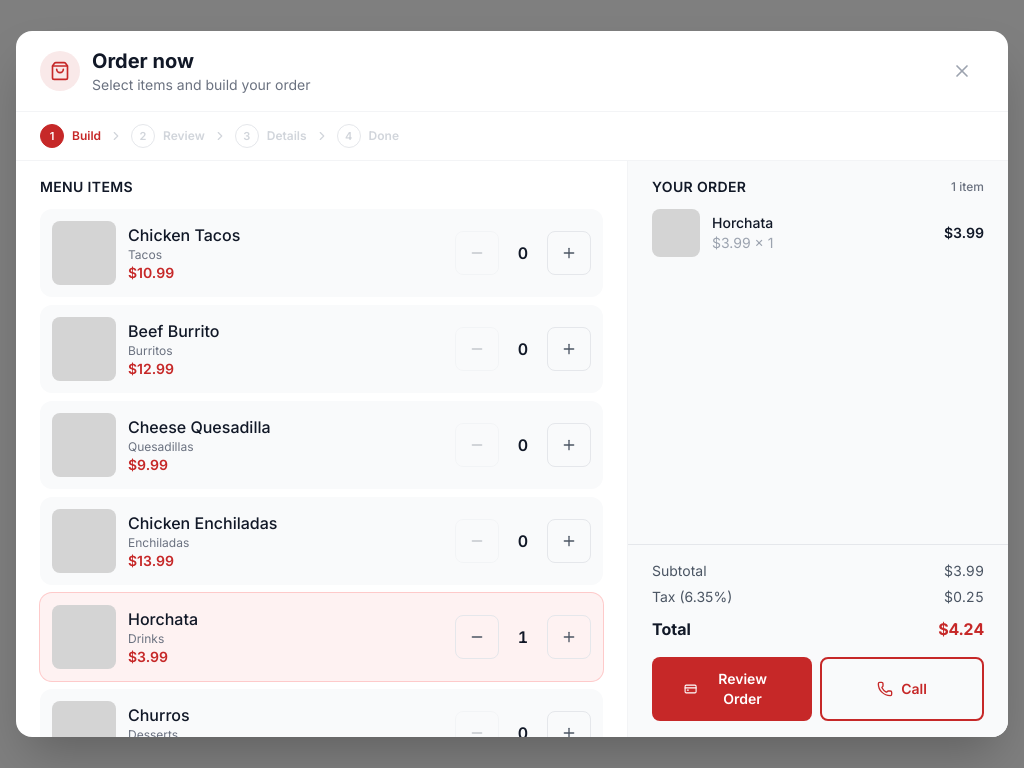
OrderModal flow › blocks delivery orders below the minimum
Click the button "Review Order". click: (732, 689)
box: [652, 657, 812, 721]
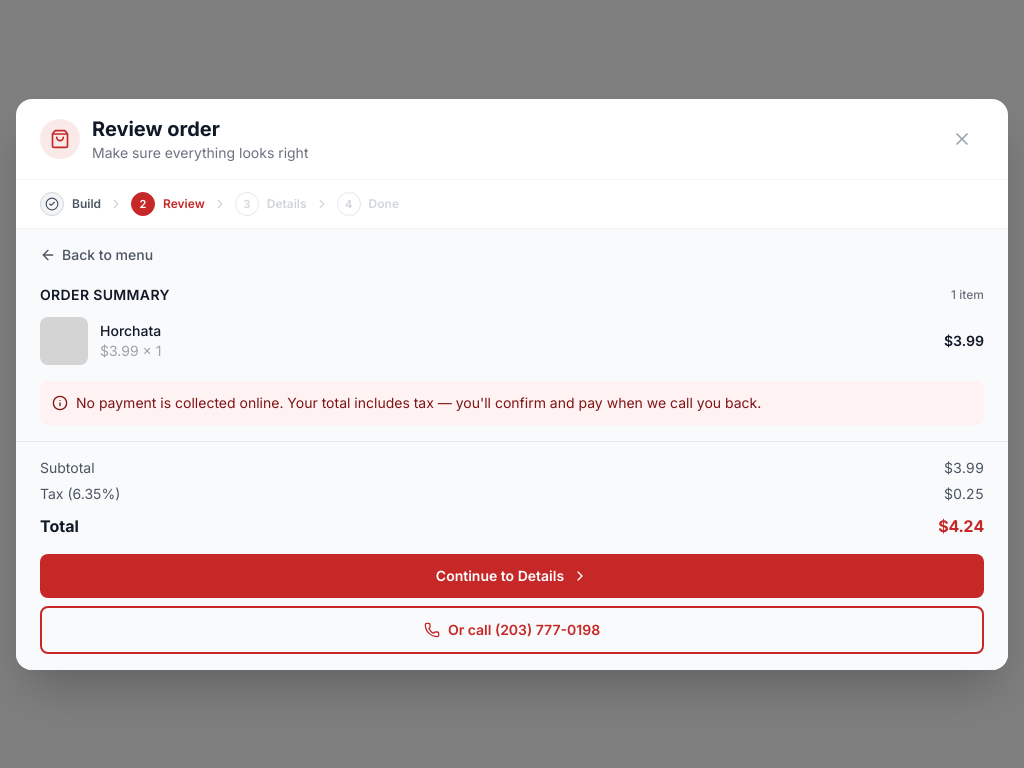
Click the button "Continue to Details". click: (512, 576)
box: [40, 554, 984, 598]
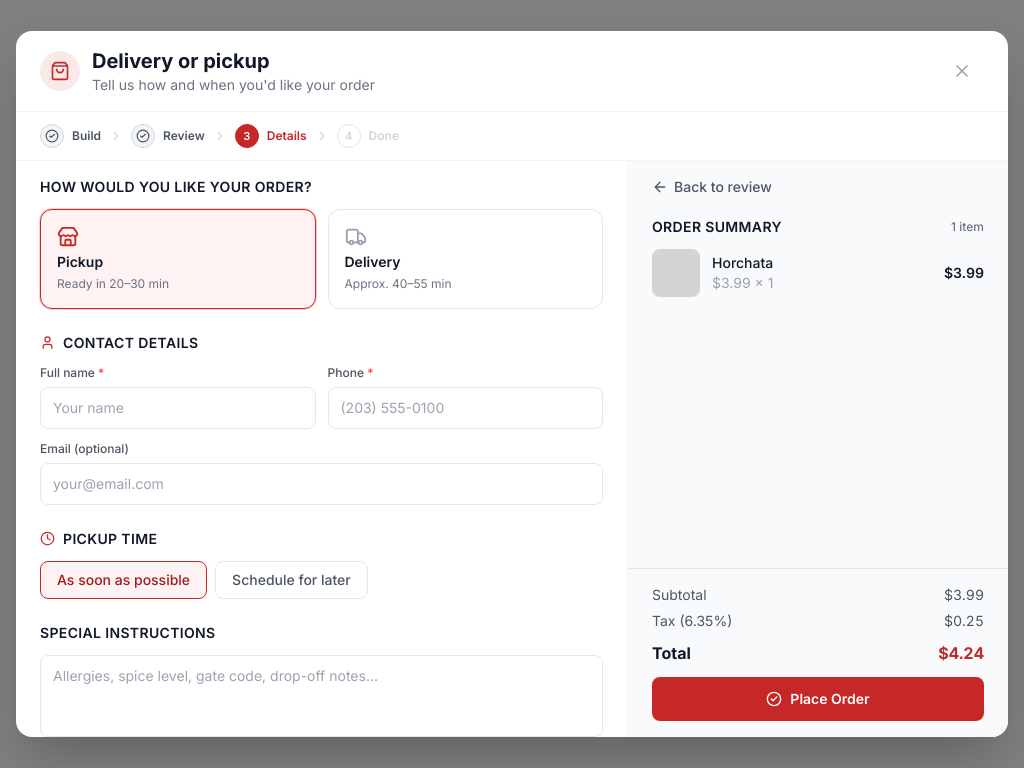
Click the button "Delivery Approx. 40–55 min". click: (372, 261)
box: [328, 209, 603, 309]
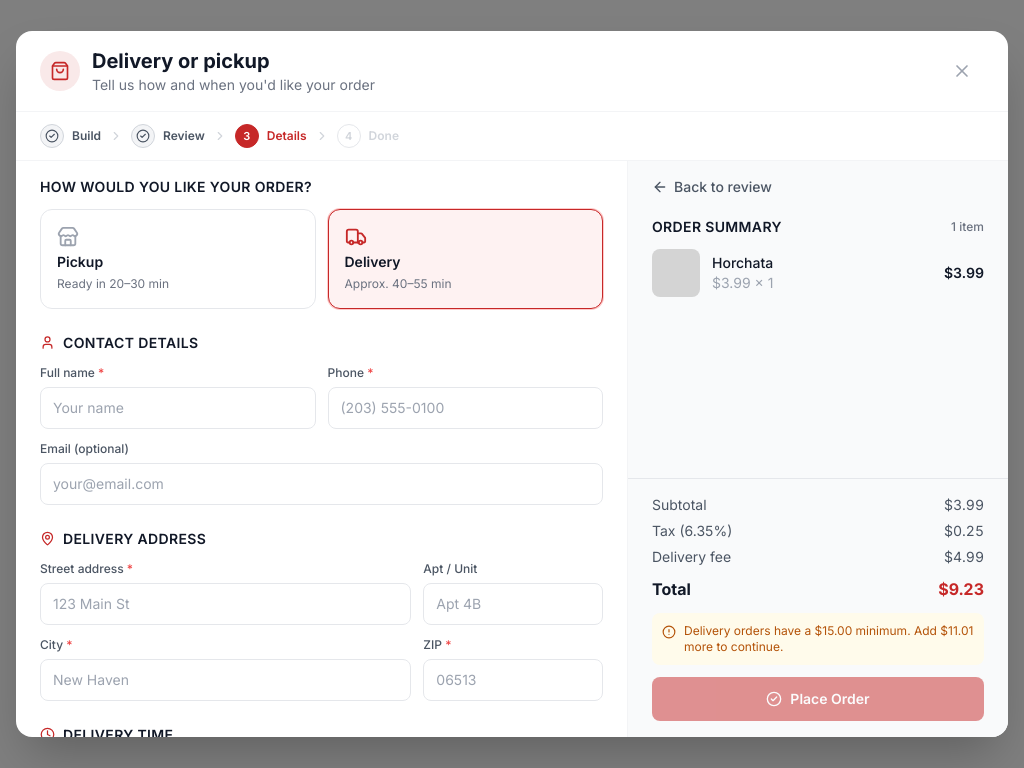
Expected: the button "Place Order" is disabled, [652, 677, 984, 721]
Expected: the text "minimum" is shown, [852, 623, 940, 638]
